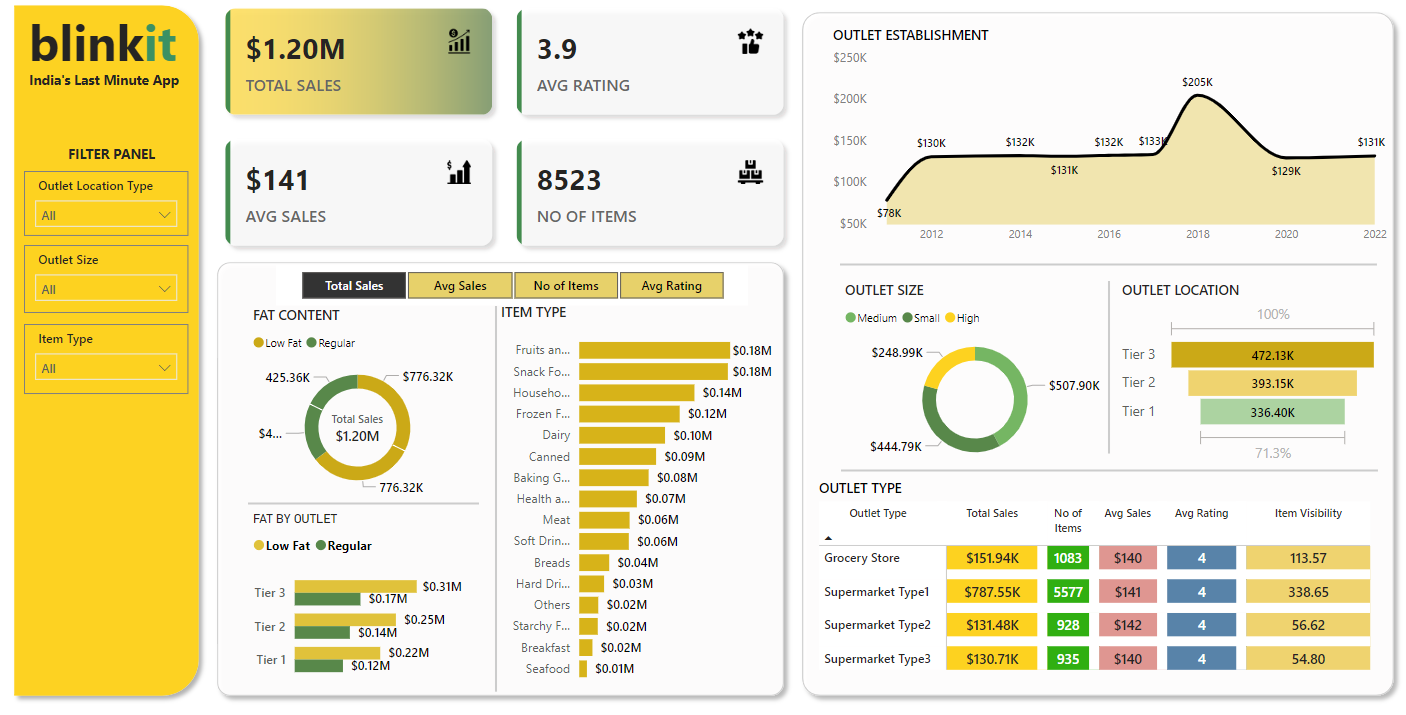

What the dashboard file says about the page in this screenshot:
{"tool":"powerbi","page":{"name":"Page 1","canvas":[1400,800],"ordinal":0},"visuals":[{"type":"shape","box":[10.8,50.2,200,698.5],"z":0},{"type":"textbox","box":[29.6,57.1,169.5,92.6],"z":1000},{"type":"textbox","box":[29.6,119.2,169.5,30.5],"z":2000},{"type":"cardVisual","fields":{"Data":["BlinkIT Grocery Data.Total Sales","BlinkIT Grocery Data.Avg Rating","BlinkIT Grocery Data.Avg Sales","BlinkIT Grocery Data.No of Items"]},"box":[210.8,45.3,584.2,270],"z":3000},{"type":"shape","box":[210.8,303.4,576.4,445.3],"z":4000},{"type":"donutChart","title":"FAT CONTENT","fields":{"Y":["BlinkIT Grocery Data.Total Sales","Sum(BlinkIT Grocery Data.Sales)"],"Category":["BlinkIT Grocery Data.Item Fat Content"]},"box":[250.2,355.7,215.8,195.1],"z":5000},{"type":"slicer","fields":{"Values":["Metrics.Metrics"]},"box":[277.8,315.3,465,40.4],"z":6000},{"type":"cardVisual","fields":{"Data":["BlinkIT Grocery Data.Total Sales"]},"box":[314.3,442.4,87.7,59.1],"z":7000},{"type":"clusteredBarChart","title":"FAT BY OUTLET","fields":{"Y":["BlinkIT Grocery Data.Total Sales"],"Category":["BlinkIT Grocery Data.Outlet Location Type"],"Series":["BlinkIT Grocery Data.Item Fat Content"]},"box":[250.2,558.6,215.8,177.3],"z":8000},{"type":"shape","box":[250.2,515.3,227.6,70],"z":9000},{"type":"shape","box":[392.1,355.7,204.9,380.3],"z":10000},{"type":"barChart","title":"ITEM TYPE","fields":{"Y":["BlinkIT Grocery Data.Total Sales"],"Category":["BlinkIT Grocery Data.Item Type"]},"box":[494.6,352.7,276.8,382.3],"z":11000},{"type":"shape","box":[787.2,57.1,601,691.6],"z":12000},{"type":"lineChart","title":"OUTLET ESTABLISHMENT","fields":{"Category":["BlinkIT Grocery Data.Outlet Establishment Year"],"Y":["BlinkIT Grocery Data.Total Sales"]},"box":[821.7,79.8,555.7,223.6],"z":13000},{"type":"shape","box":[833.5,279.8,529.1,70],"z":14000},{"type":"donutChart","title":"OUTLET SIZE","fields":{"Y":["BlinkIT Grocery Data.Total Sales"],"Category":["BlinkIT Grocery Data.Outlet Size"]},"box":[833.5,331,266,189.2],"z":15000},{"type":"shape","box":[996.1,331,204.9,170.4],"z":16000},{"type":"funnel","title":"OUTLET LOCATION","fields":{"Y":["Sum(BlinkIT Grocery Data.Sales)"],"Category":["BlinkIT Grocery Data.Outlet Location Type"]},"box":[1106.4,331,263.1,184.2],"z":17000},{"type":"shape","box":[834.5,484.7,529.1,66],"z":18000},{"type":"pivotTable","title":"OUTLET TYPE","fields":{"Rows":["BlinkIT Grocery Data.Outlet Type"],"Values":["BlinkIT Grocery Data.Total Sales","BlinkIT Grocery Data.No of Items","BlinkIT Grocery Data.Avg Sales","BlinkIT Grocery Data.Avg Rating","Sum(BlinkIT Grocery Data.Item Visibility)"]},"box":[807.9,526.1,555.7,208.9],"z":19000},{"type":"actionButton","box":[0,4.9,99.5,40.4],"z":20000},{"type":"slicer","fields":{"Values":["BlinkIT Grocery Data.Outlet Location Type"]},"box":[29.6,222.7,161.6,64],"z":21000},{"type":"slicer","fields":{"Values":["BlinkIT Grocery Data.Outlet Size"]},"box":[29.6,295.6,161.6,67],"z":22000},{"type":"slicer","fields":{"Values":["BlinkIT Grocery Data.Item Type"]},"box":[29.6,373.4,161.6,69],"z":23000},{"type":"textbox","box":[68,192.1,131,44.3],"z":24000}]}

Visuals, with their boxes on the page's 1400x800 design canvas (x1, y1, x2, y2). These are canvas units, not pixel positions in the 1406x715 screenshot, which may show the page scaled, cropped or inside an application window:
shape: [11,50,211,749]
textbox: [30,57,199,150]
textbox: [30,119,199,150]
cardVisual - BlinkIT Grocery Data.Total Sales x BlinkIT Grocery Data.Avg Rating: [211,45,795,315]
shape: [211,303,787,749]
"FAT CONTENT" donutChart: [250,356,466,551]
slicer - Metrics.Metrics: [278,315,743,356]
cardVisual - BlinkIT Grocery Data.Total Sales: [314,442,402,502]
"FAT BY OUTLET" clusteredBarChart: [250,559,466,736]
shape: [250,515,478,585]
shape: [392,356,597,736]
"ITEM TYPE" barChart: [495,353,771,735]
shape: [787,57,1388,749]
"OUTLET ESTABLISHMENT" lineChart: [822,80,1377,303]
shape: [834,280,1363,350]
"OUTLET SIZE" donutChart: [834,331,1100,520]
shape: [996,331,1201,501]
"OUTLET LOCATION" funnel: [1106,331,1370,515]
shape: [834,485,1364,551]
"OUTLET TYPE" pivotTable: [808,526,1364,735]
actionButton: [0,5,100,45]
slicer - BlinkIT Grocery Data.Outlet Location Type: [30,223,191,287]
slicer - BlinkIT Grocery Data.Outlet Size: [30,296,191,363]
slicer - BlinkIT Grocery Data.Item Type: [30,373,191,442]
textbox: [68,192,199,236]
